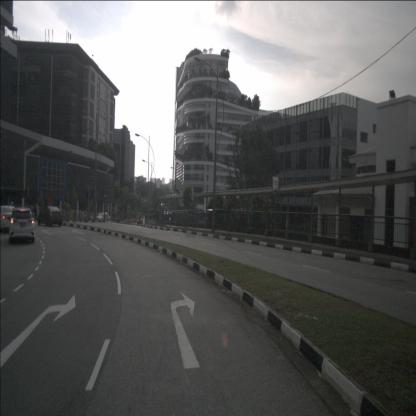human-pedestrian-adult: (153, 210, 157, 225), (138, 209, 141, 225), (74, 209, 76, 221)
vehicle-car: (9, 207, 34, 244), (37, 206, 63, 227), (0, 206, 19, 233), (95, 212, 111, 223), (137, 218, 143, 226)
